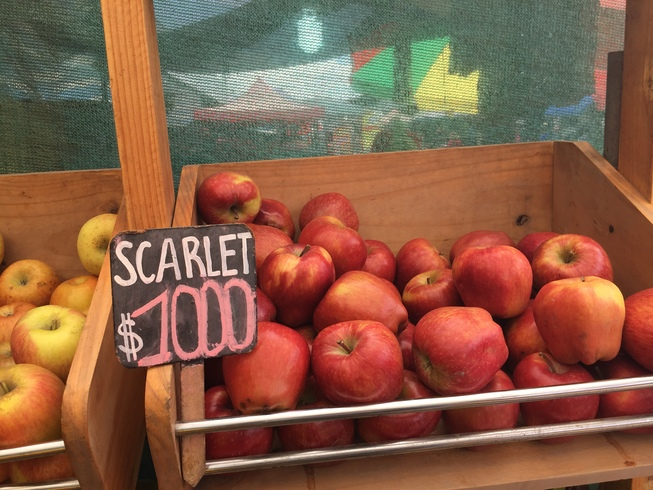precio: (114, 227, 258, 364)
